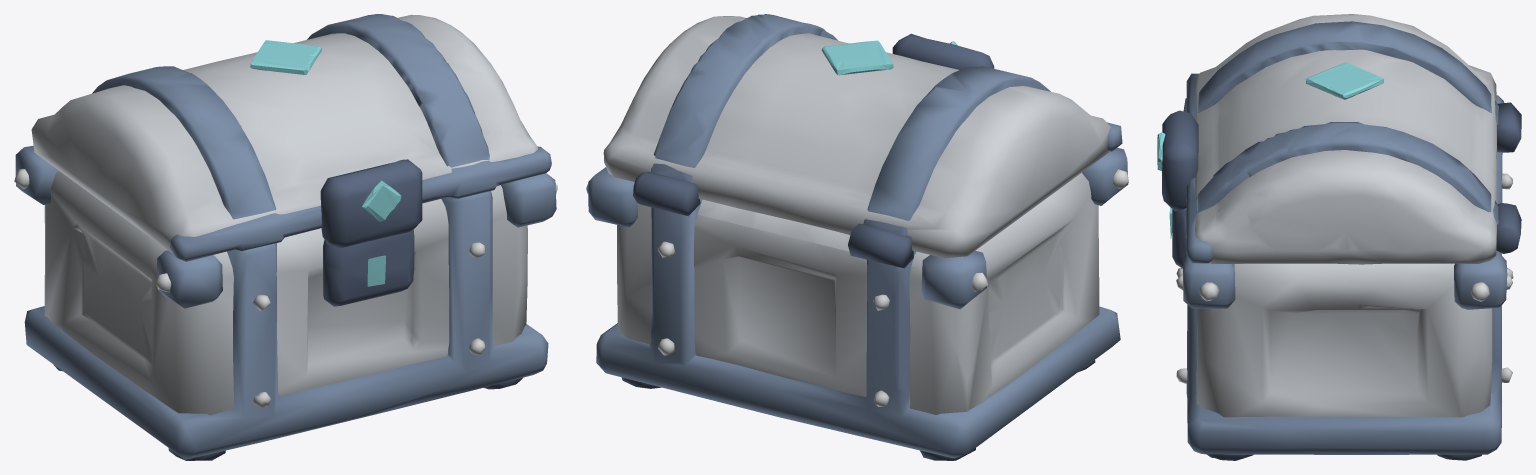
Rendered from box_argent.glb.
3 renders of one model, left to right at view 1: azimuth 30°, elevation 25°; view 2: azimuth 150°, elevation 25°; view 3: azimuth 270°, elevation 25°, orthographic. The views are drawn at different scales.
Parts seen in each view (by area): view 1: body, lid, lid_glow; view 2: body, lid, lid_glow; view 3: lid, body, lid_glow.
Boxes of the visible parts, x1=… form: body: x1=14, y1=145, x2=557, y2=460; lid: x1=31, y1=14, x2=551, y2=261; lid_glow: x1=250, y1=40, x2=401, y2=221; body: x1=586, y1=147, x2=1128, y2=460; lid: x1=603, y1=14, x2=1122, y2=268; lid_glow: x1=821, y1=40, x2=957, y2=75; lid: x1=1162, y1=14, x2=1521, y2=264; body: x1=1172, y1=95, x2=1513, y2=460; lid_glow: x1=1157, y1=62, x2=1383, y2=171.
Bounding box in the file's own units: 1.08 × 0.8168 × 0.8873.
